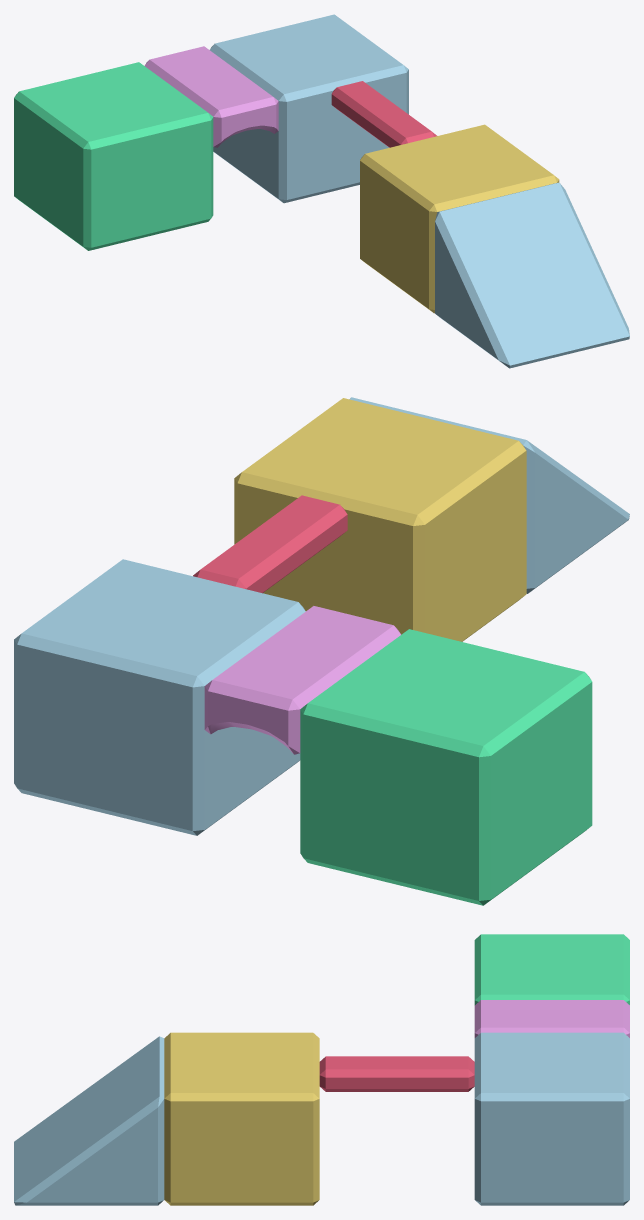
File: playground2.fbx
The picture shows the model from 3 angles, top to bottom: view 1: azimuth 30°, elevation 25°; view 2: azimuth 150°, elevation 25°; view 3: azimuth 270°, elevation 25°; orthographic projection. The views are drawn at different scales.
Visible parts, largest first — view 1: Sphere.001; view 2: Sphere.001; view 3: Sphere.001.
Part boxes in pixels (box(x1,y1,x2,y2)): Sphere.001: box(14, 14, 629, 368); Sphere.001: box(14, 397, 629, 905); Sphere.001: box(14, 934, 629, 1205).
Bounding box in the file's own units: 1250 × 400 × 1984.
